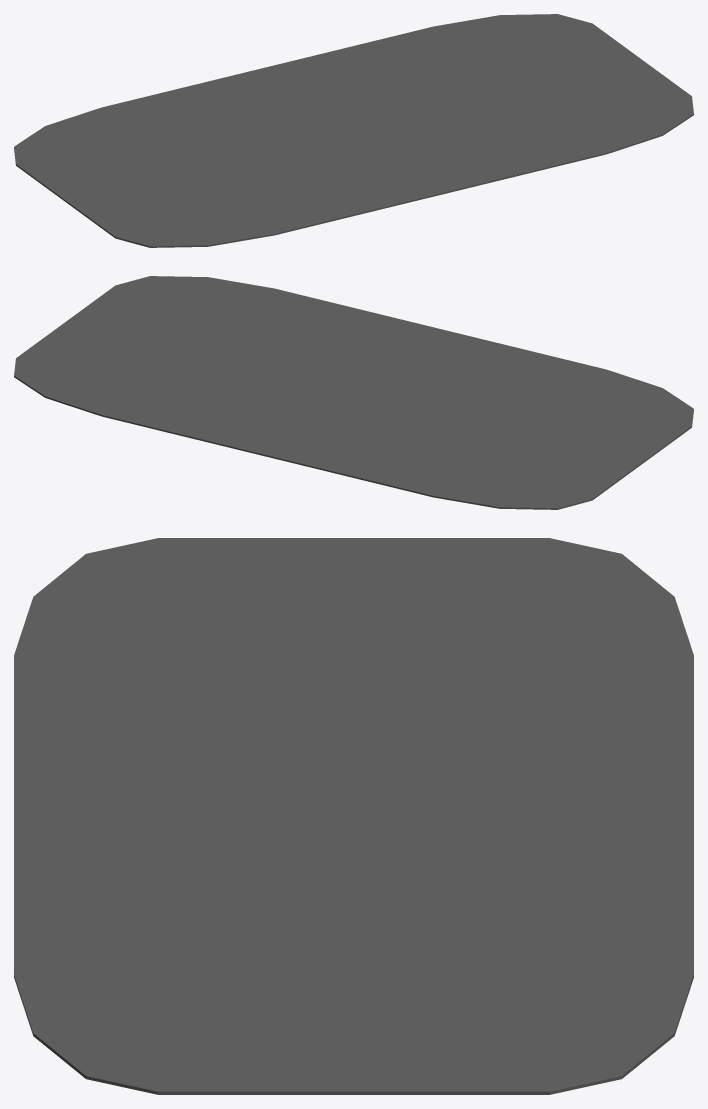
Rendered from Carpet2.fbx.
The picture shows the model from 3 angles, top to bottom: view 1: azimuth 30°, elevation 25°; view 2: azimuth 150°, elevation 25°; view 3: azimuth 270°, elevation 25°; orthographic projection. The views are drawn at different scales.
Parts seen in each view (by area): view 1: Carpet2; view 2: Carpet2; view 3: Carpet2.
Boxes of the visible parts, left/top/right/bottom form: Carpet2: left=14, top=14, right=693, bottom=247; Carpet2: left=14, top=276, right=693, bottom=509; Carpet2: left=14, top=538, right=693, bottom=1094.
Size of the model in its own units: 3.85 by 0.01 by 2.
1 material, 1 textured.
